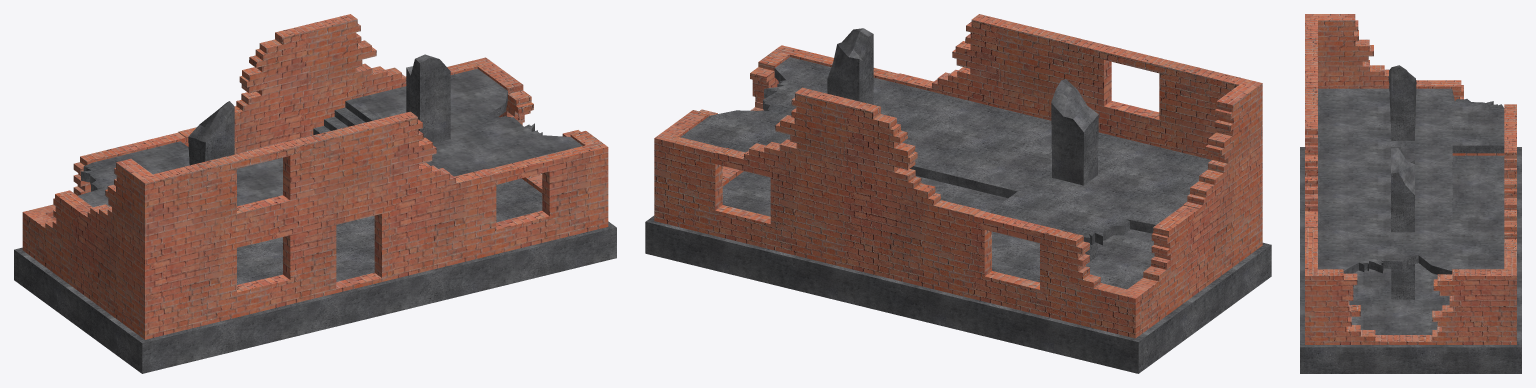
Rendered from house_3.fbx.
The picture shows the model from 3 angles, left to right: view 1: azimuth 30°, elevation 25°; view 2: azimuth 150°, elevation 25°; view 3: azimuth 270°, elevation 25°; orthographic projection. The views are drawn at different scales.
Parts seen in each view (by area): view 1: stone; view 2: stone; view 3: stone.
Boxes of the visible parts, x1,y1,x2,y2 form: stone: (14, 14, 616, 373); stone: (645, 14, 1271, 373); stone: (1300, 14, 1521, 373).
Size of the model in its own units: 1783 by 702 by 833.
